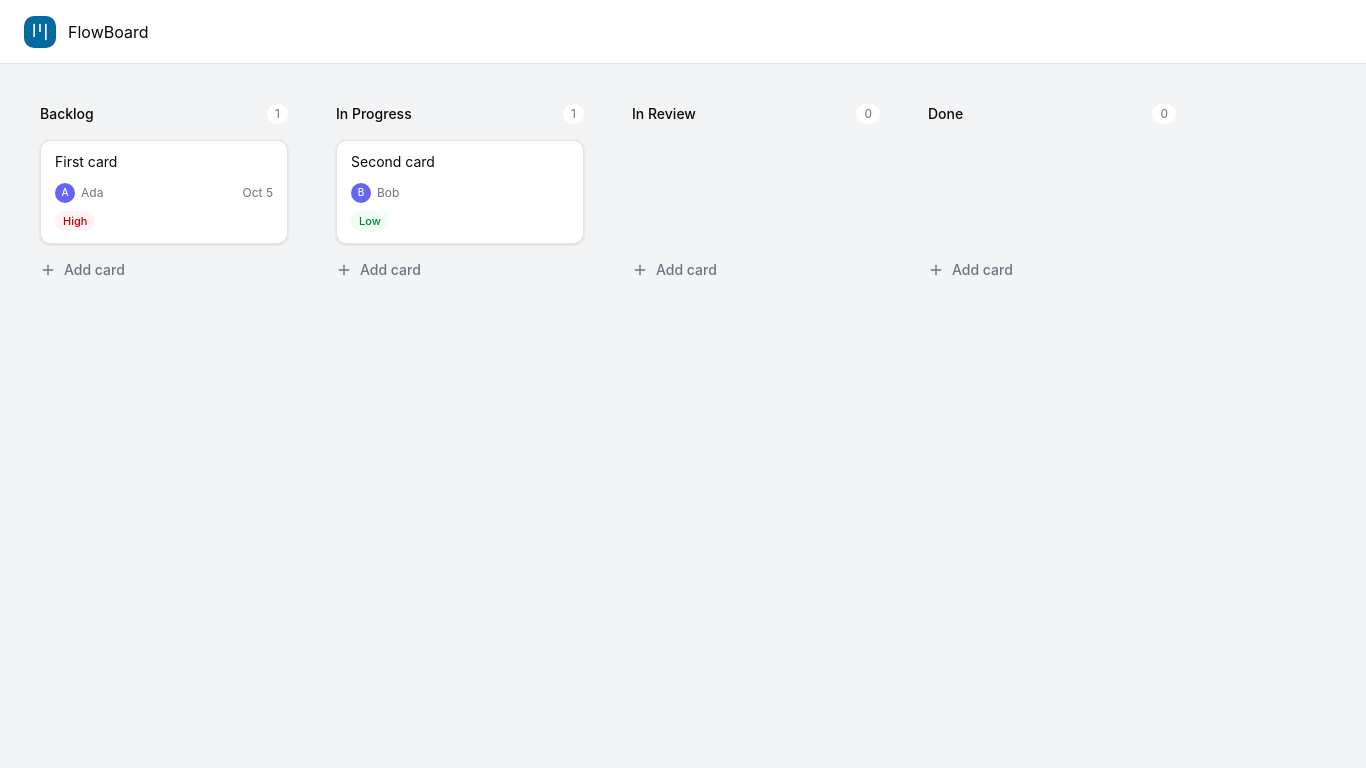
App - save card (regression: rollback on failure) › does not add a card when insertCard fails
Expected: the text "First card" is shown, [55,153,118,170]
Click the button "Add card" below "Backlog" at (164, 270), box [40,260,288,280]
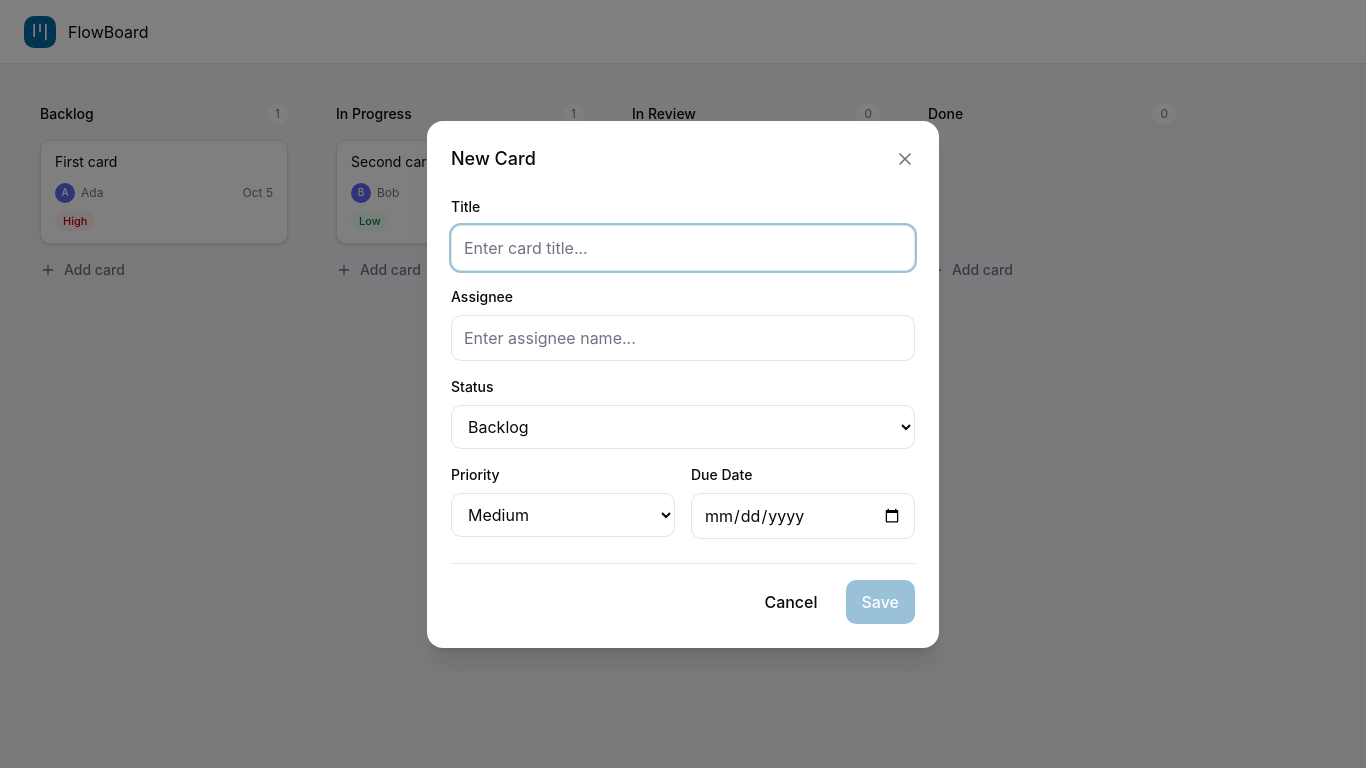
Type "New card" into the field with placeholder "Enter card title..." at (683, 248), box [451,224,915,270]
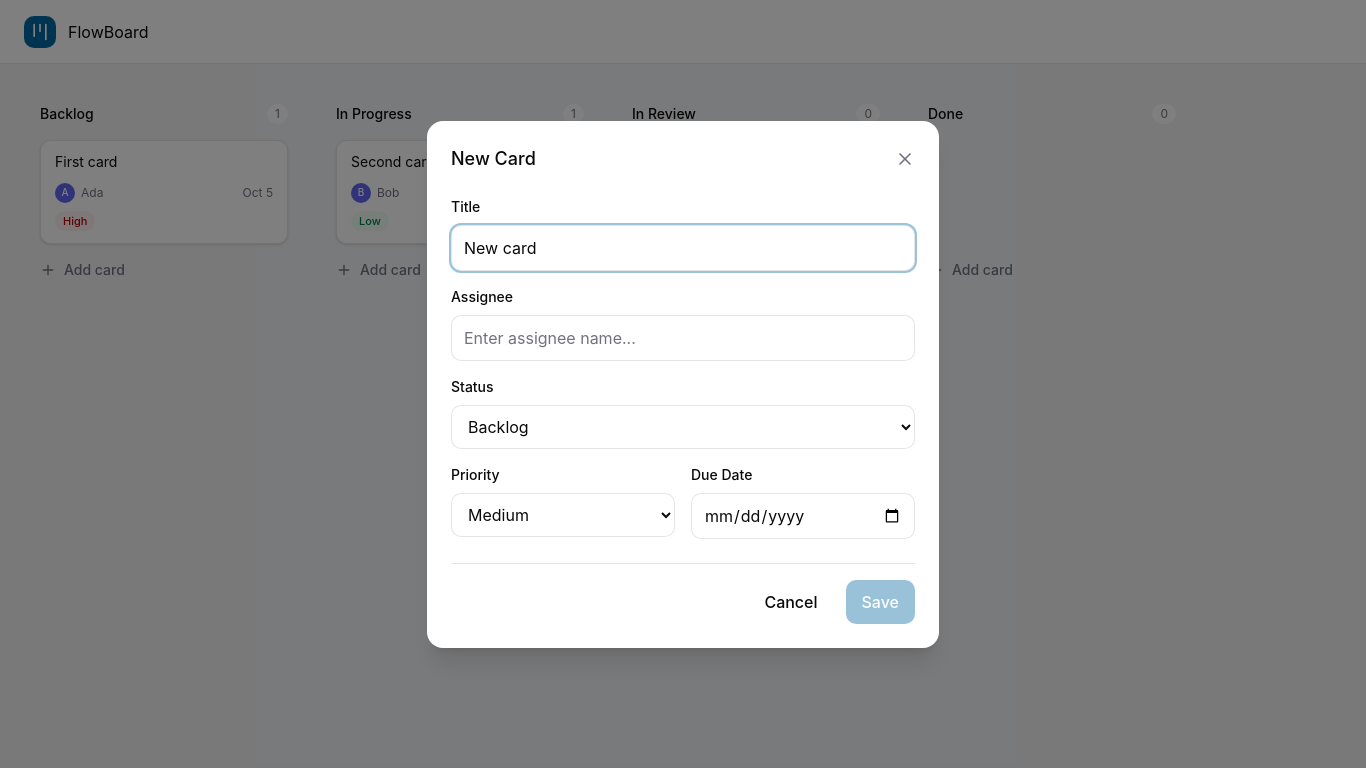
Type "Grace" into the field with placeholder "Enter assignee name..." at (683, 338), box [451,314,915,360]
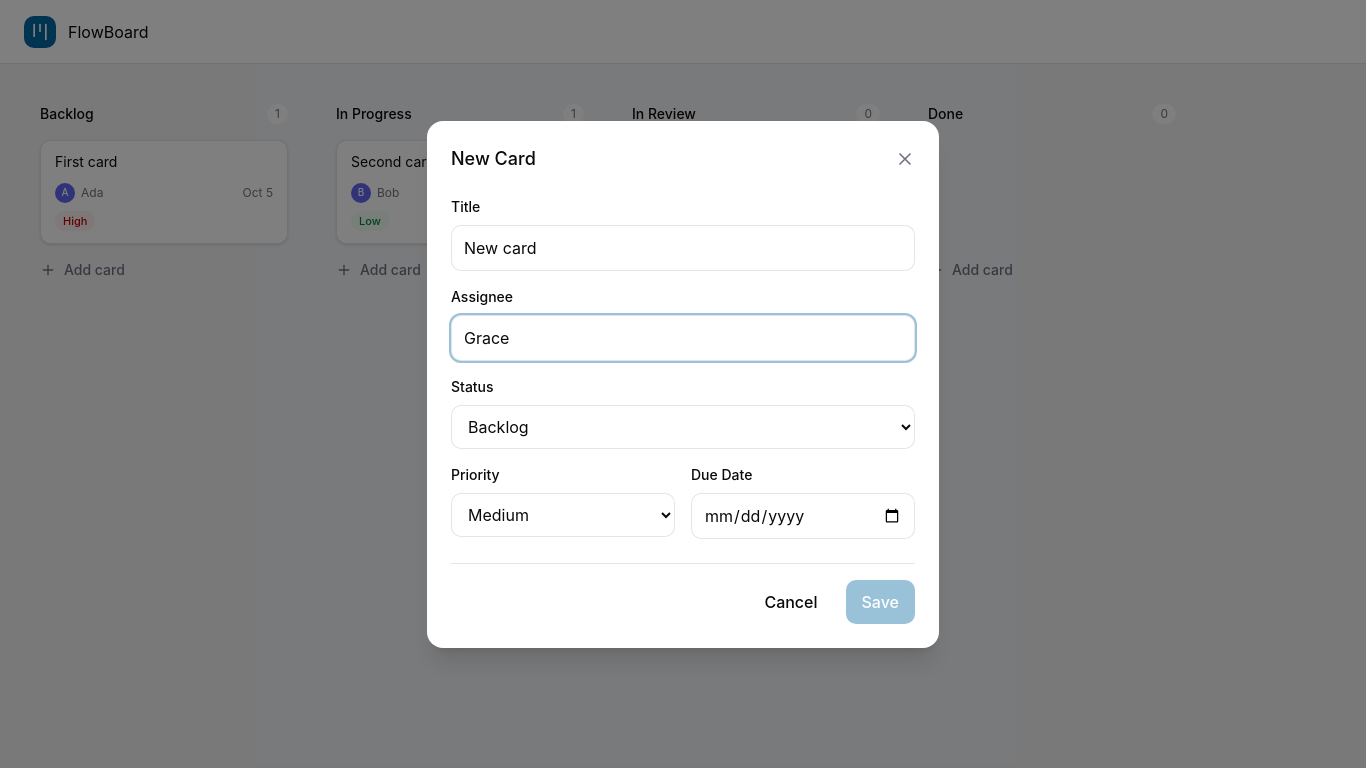
Type "2026-11-01" into the date field labelled "Due Date" at (803, 516), box [691,492,915,538]
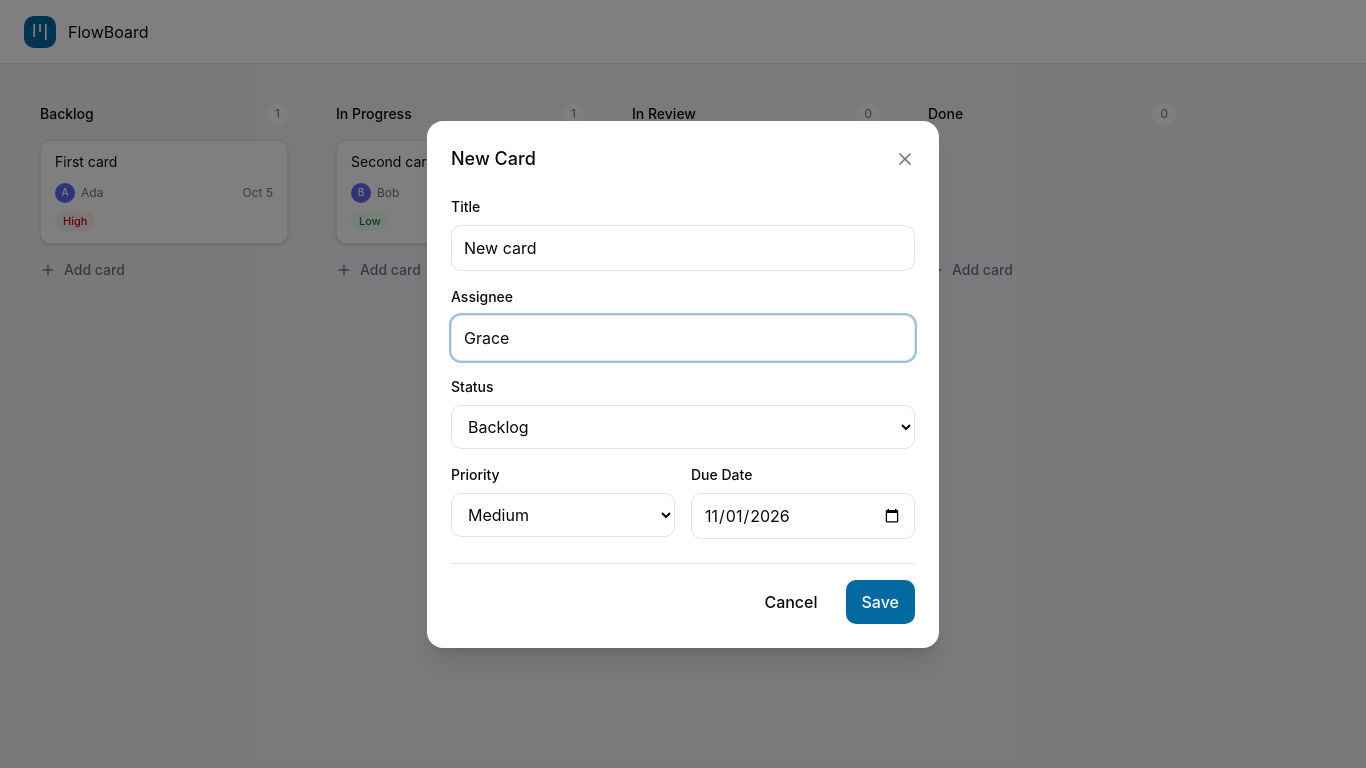
Click the button "Save" at (880, 602), box [846,580,915,624]
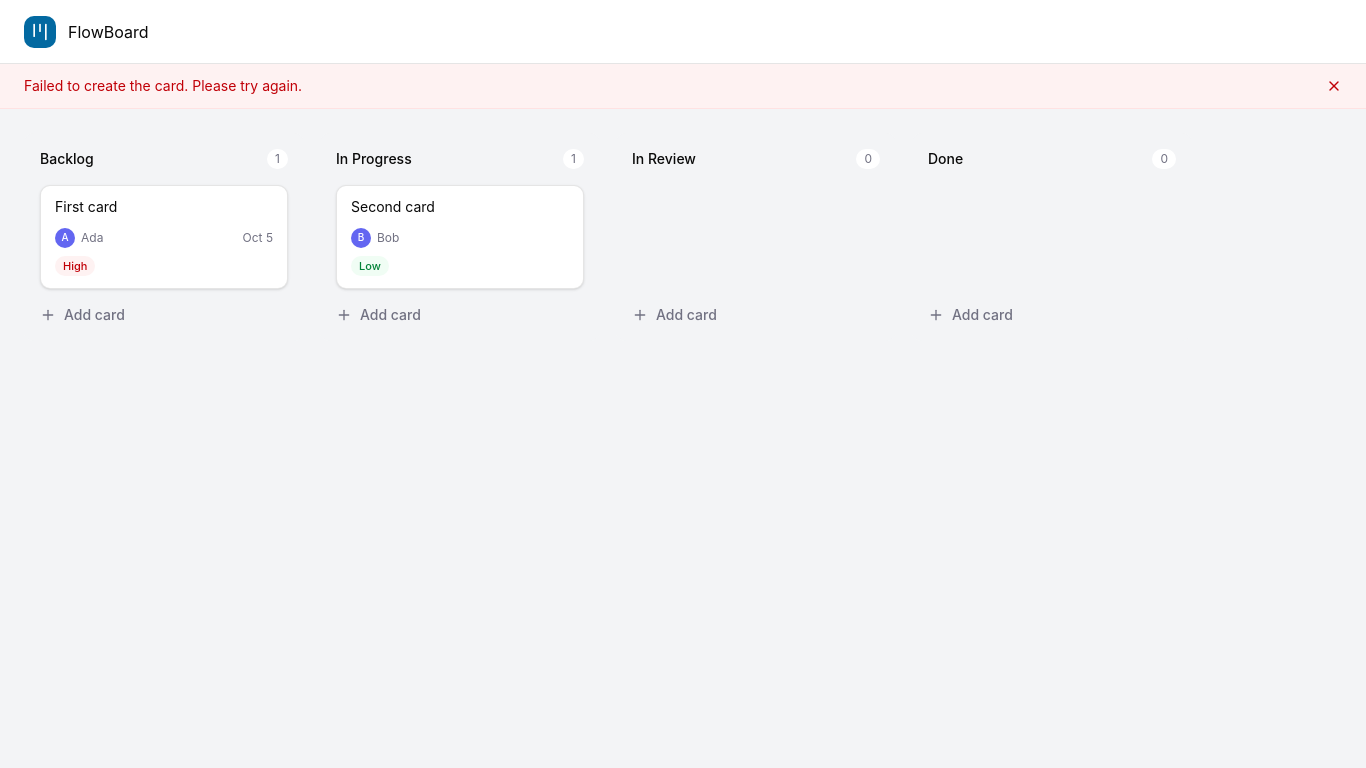
Expected: the text "Failed to create the card. Please try again." is shown, [24,76,302,96]
Expected: the heading "New Card" is gone
